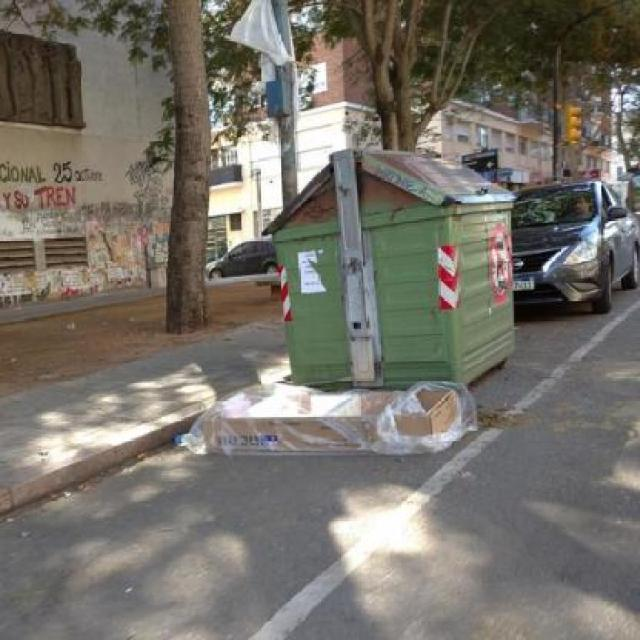garbage: (186, 380, 486, 458)
